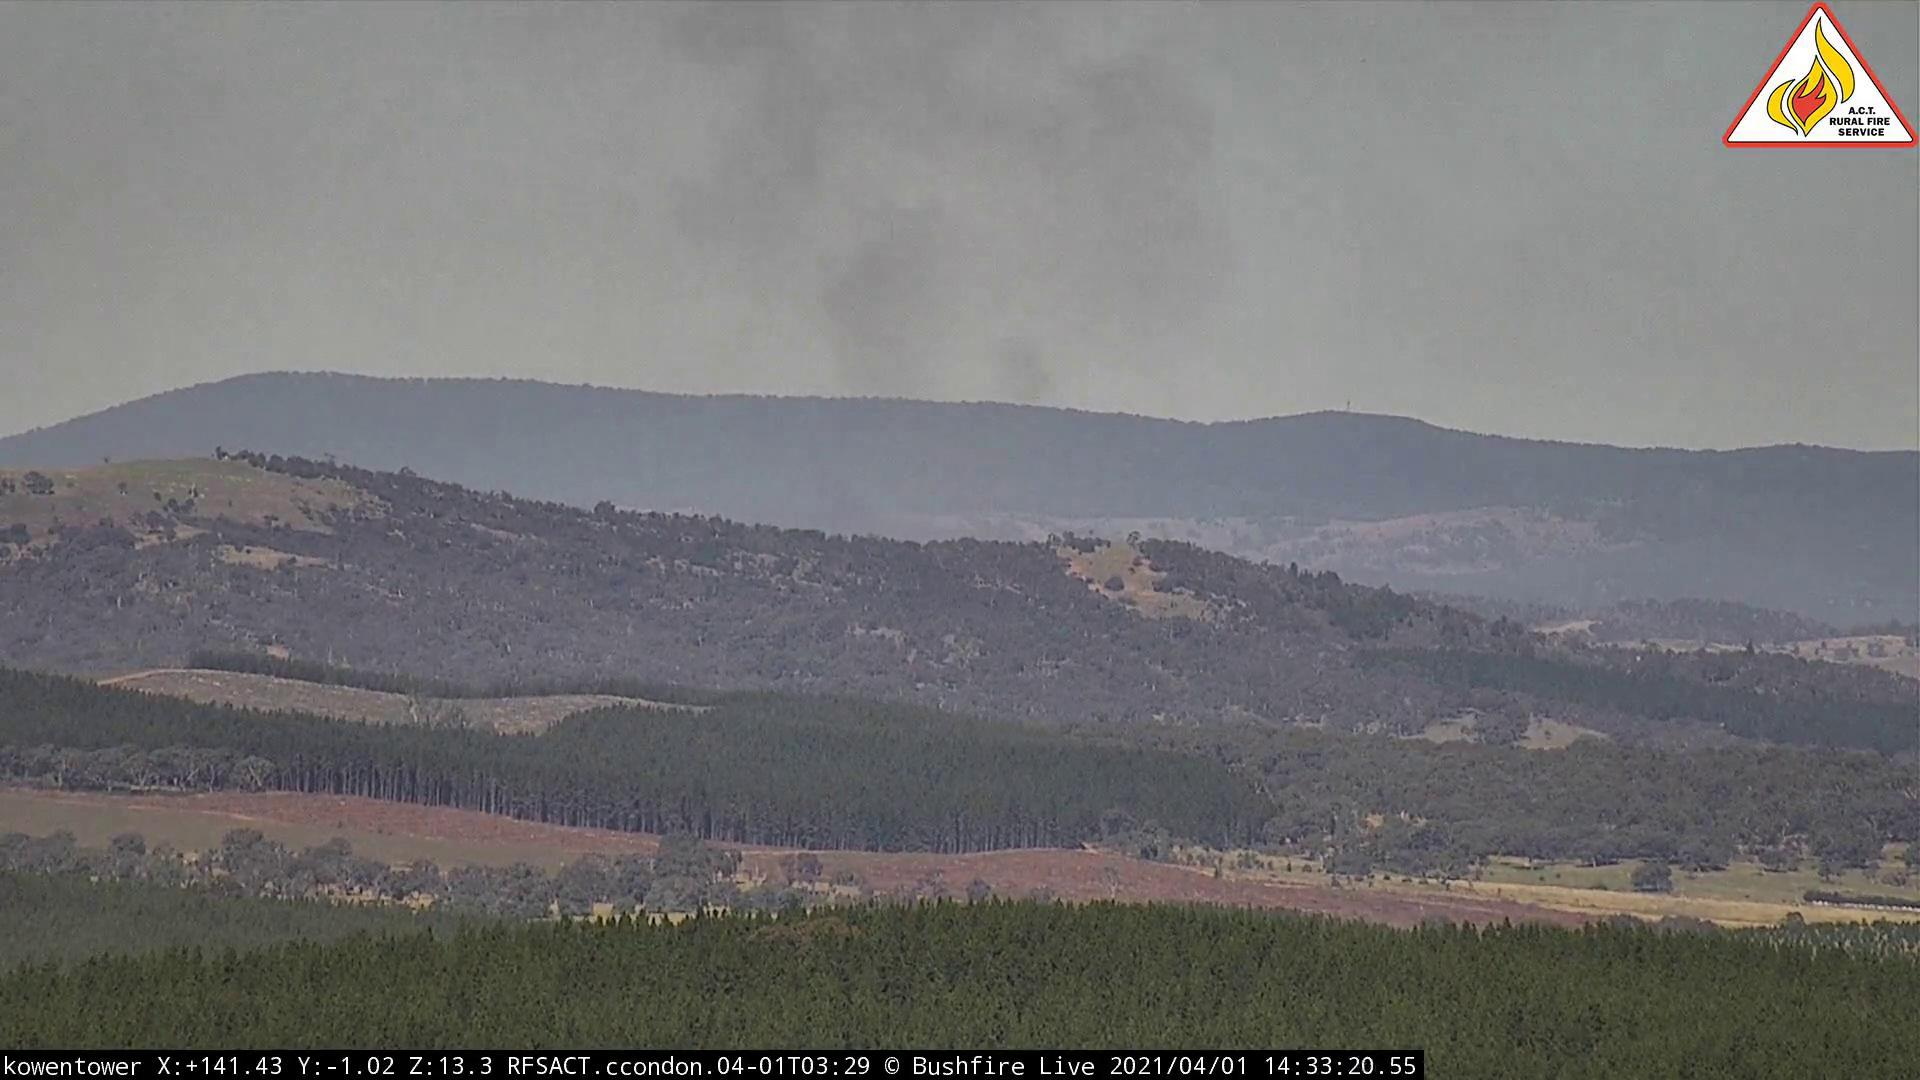Smoke: (678, 3, 1298, 550)
